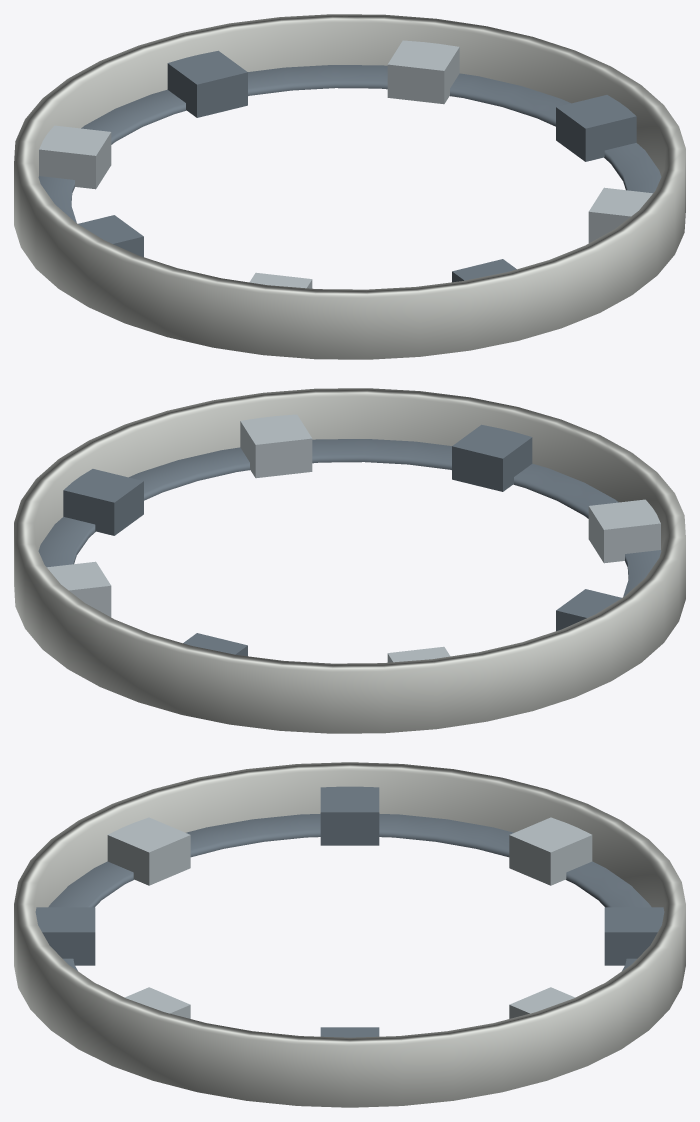
The model's file is falcon9_avionics_section.glb.
3 renders of one model, top to bottom at view 1: azimuth 30°, elevation 25°; view 2: azimuth 150°, elevation 25°; view 3: azimuth 270°, elevation 25°, orthographic.
Parts seen in each view (by area): view 1: falcon9_avionics_section.mesh_Pale_thermal_blanket, falcon9_avionics_section.mesh_Machined_steel, falcon9_avionics_section.mesh_Satin_aluminum; view 2: falcon9_avionics_section.mesh_Pale_thermal_blanket, falcon9_avionics_section.mesh_Machined_steel, falcon9_avionics_section.mesh_Satin_aluminum; view 3: falcon9_avionics_section.mesh_Pale_thermal_blanket, falcon9_avionics_section.mesh_Machined_steel, falcon9_avionics_section.mesh_Satin_aluminum.
Part boxes in pixels (<box>): falcon9_avionics_section.mesh_Pale_thermal_blanket: <box>14,14,685,359</box>; falcon9_avionics_section.mesh_Machined_steel: <box>38,50,661,282</box>; falcon9_avionics_section.mesh_Satin_aluminum: <box>39,40,652,288</box>; falcon9_avionics_section.mesh_Pale_thermal_blanket: <box>14,388,685,733</box>; falcon9_avionics_section.mesh_Machined_steel: <box>38,424,661,656</box>; falcon9_avionics_section.mesh_Satin_aluminum: <box>47,414,660,662</box>; falcon9_avionics_section.mesh_Pale_thermal_blanket: <box>14,762,685,1107</box>; falcon9_avionics_section.mesh_Machined_steel: <box>35,786,664,1037</box>; falcon9_avionics_section.mesh_Satin_aluminum: <box>107,817,592,1018</box>.
Size of the model in its own units: 3.66 by 0.37 by 3.66.
